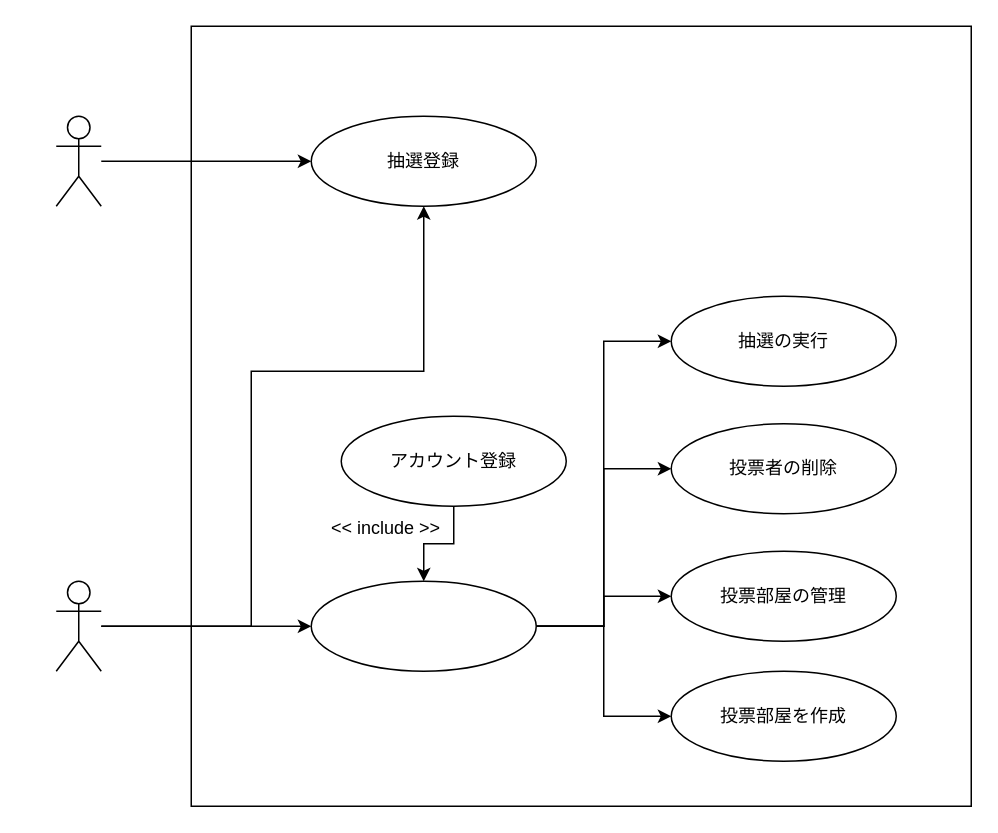
This 998x833 diagram has some shape labels left out. Each missing label, with the centre of its shape:
Administrator: [78,625]
guests_user: [78,160]
ログイン: [423,625]
